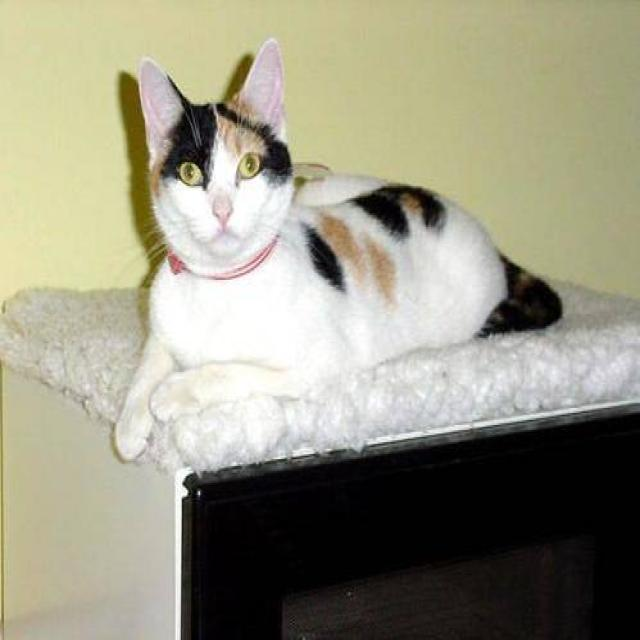cat: (113, 36, 563, 464)
